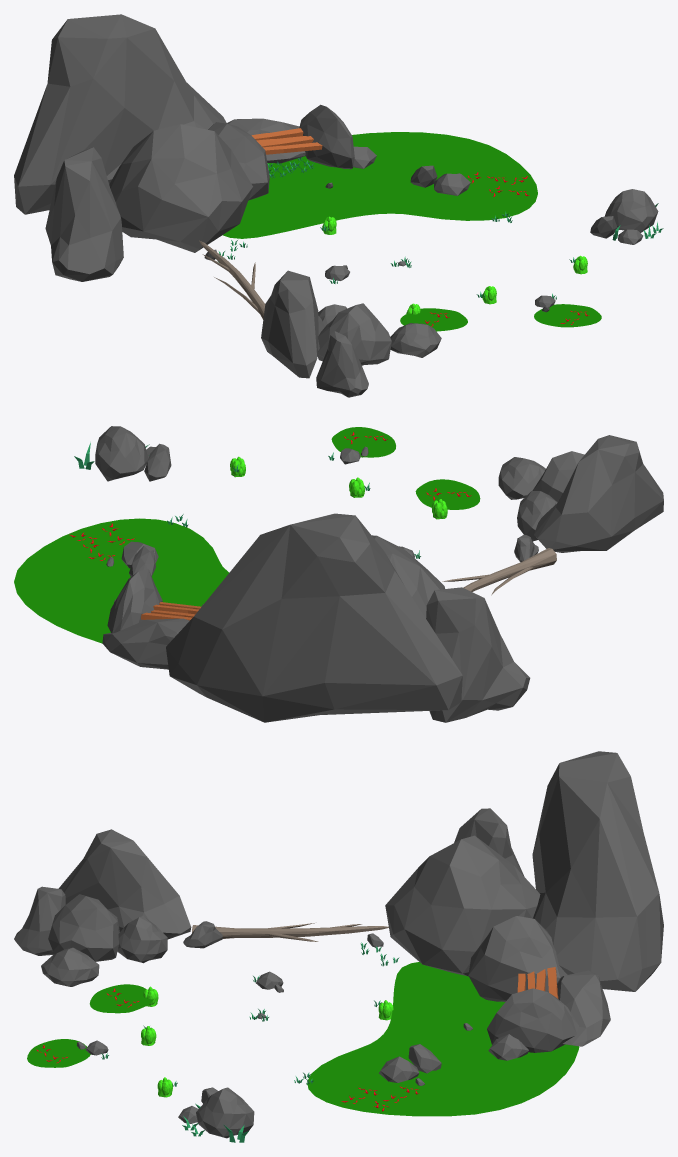
Rendered from tmgtchi.glb.
The picture shows the model from 3 angles, top to bottom: view 1: azimuth 30°, elevation 25°; view 2: azimuth 150°, elevation 25°; view 3: azimuth 270°, elevation 25°; orthographic projection. The views are drawn at different scales.
Visible parts, largest first — view 1: rocktall.006, BézierCircle, rock2.002, rocktall.003, rocktall.002, rock2.004, rock2.007, rocktall.001, rock2.003, rock2.001, rock2.006, Circle.001 (+5 smaller); view 2: rocktall.006, BézierCircle, rocktall.002, rocktall.003, rocktall.005, rock2.001, rock2.007, rock2.002, rock2.006, Circle, Circle.001, tree (+5 smaller); view 3: rocktall.006, BézierCircle, rock2.002, rocktall.002, rock2.003, rock2.007, rock2.004, rocktall.005, rocktall.001, rock2.001, rock2.005, tree (+8 smaller).
Part boxes in pixels (x1=…): rocktall.006: x1=14, y1=14, x2=226, y2=214; BézierCircle: x1=223, y1=132, x2=537, y2=238; rock2.002: x1=109, y1=124, x2=252, y2=252; rocktall.003: x1=45, y1=147, x2=123, y2=281; rocktall.002: x1=261, y1=270, x2=325, y2=378; rock2.004: x1=317, y1=303, x2=391, y2=365; rock2.007: x1=299, y1=104, x2=354, y2=169; rocktall.001: x1=316, y1=331, x2=368, y2=397; rock2.003: x1=208, y1=122, x2=269, y2=200; rock2.001: x1=604, y1=189, x2=658, y2=232; rock2.006: x1=390, y1=323, x2=441, y2=357; Circle.001: x1=534, y1=304, x2=601, y2=327; rocktall.006: x1=166, y1=513, x2=462, y2=722; BézierCircle: x1=14, y1=518, x2=229, y2=643; rocktall.002: x1=534, y1=435, x2=663, y2=552; rocktall.003: x1=426, y1=587, x2=530, y2=722; rocktall.005: x1=102, y1=618, x2=189, y2=669; rock2.001: x1=95, y1=426, x2=148, y2=481; rock2.007: x1=107, y1=569, x2=162, y2=633; rock2.002: x1=372, y1=535, x2=444, y2=617; rock2.006: x1=498, y1=457, x2=545, y2=499; Circle: x1=415, y1=479, x2=480, y2=509; Circle.001: x1=331, y1=427, x2=395, y2=457; tree: x1=442, y1=548, x2=556, y2=595; rocktall.006: x1=532, y1=751, x2=663, y2=991; BézierCircle: x1=307, y1=962, x2=579, y2=1116; rock2.002: x1=385, y1=835, x2=540, y2=976; rocktall.002: x1=58, y1=829, x2=191, y2=939; rock2.003: x1=468, y1=916, x2=567, y2=1001; rock2.007: x1=487, y1=988, x2=578, y2=1052; rock2.004: x1=48, y1=894, x2=119, y2=961; rocktall.005: x1=557, y1=970, x2=610, y2=1046; rocktall.001: x1=14, y1=886, x2=65, y2=955; rock2.001: x1=196, y1=1087, x2=254, y2=1138; rock2.005: x1=117, y1=916, x2=167, y2=963; tree: x1=192, y1=923, x2=388, y2=941.
Size of the model in its own units: 54.97 by 20.22 by 57.78.
